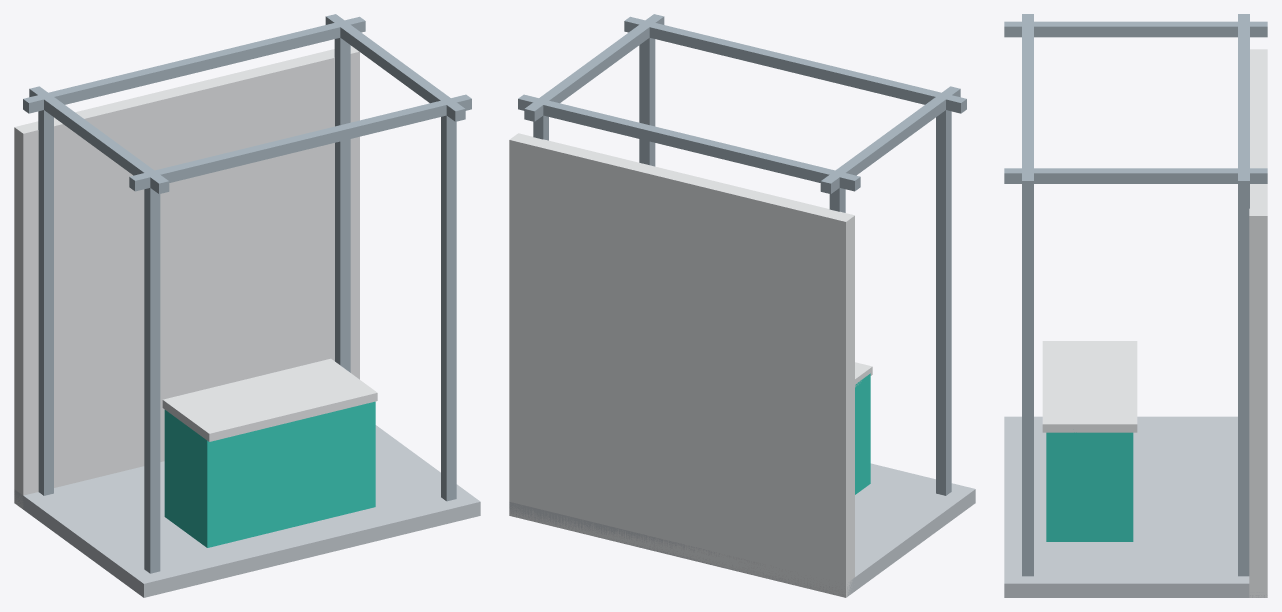
The picture shows the model from 3 angles, left to right: view 1: azimuth 30°, elevation 25°; view 2: azimuth 150°, elevation 25°; view 3: azimuth 270°, elevation 25°; orthographic projection.
Visible parts, largest first — view 1: Exhibition Booth Concept; view 2: Exhibition Booth Concept; view 3: Exhibition Booth Concept.
Boxes of the visible parts, bbox=[...] form: Exhibition Booth Concept: bbox=[14, 14, 480, 597]; Exhibition Booth Concept: bbox=[509, 14, 975, 597]; Exhibition Booth Concept: bbox=[1004, 14, 1267, 597].
Bounding box in the file's own units: 3 × 3.49 × 2.
